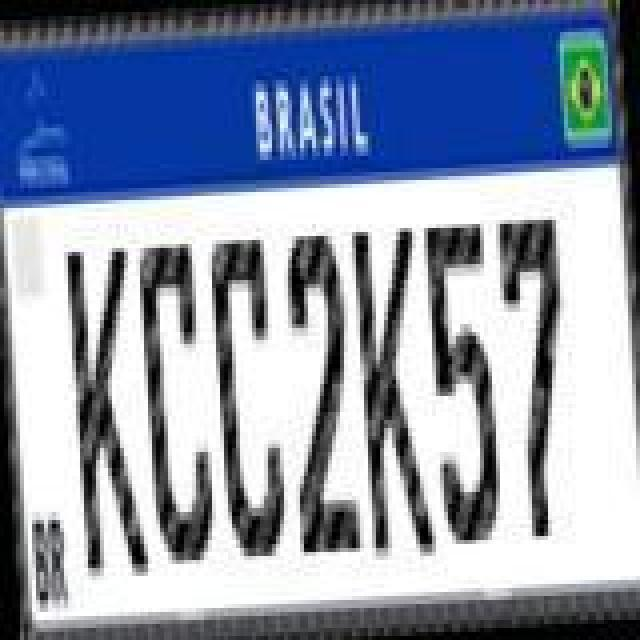2: (278, 224, 362, 560)
5: (422, 218, 506, 550)
7: (494, 210, 578, 542)
C: (134, 236, 218, 564), (206, 236, 290, 564)
K: (64, 242, 152, 574), (350, 226, 434, 558)
